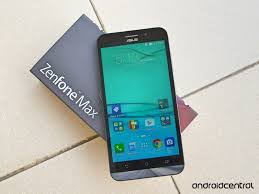asus: (96, 26, 186, 182)
